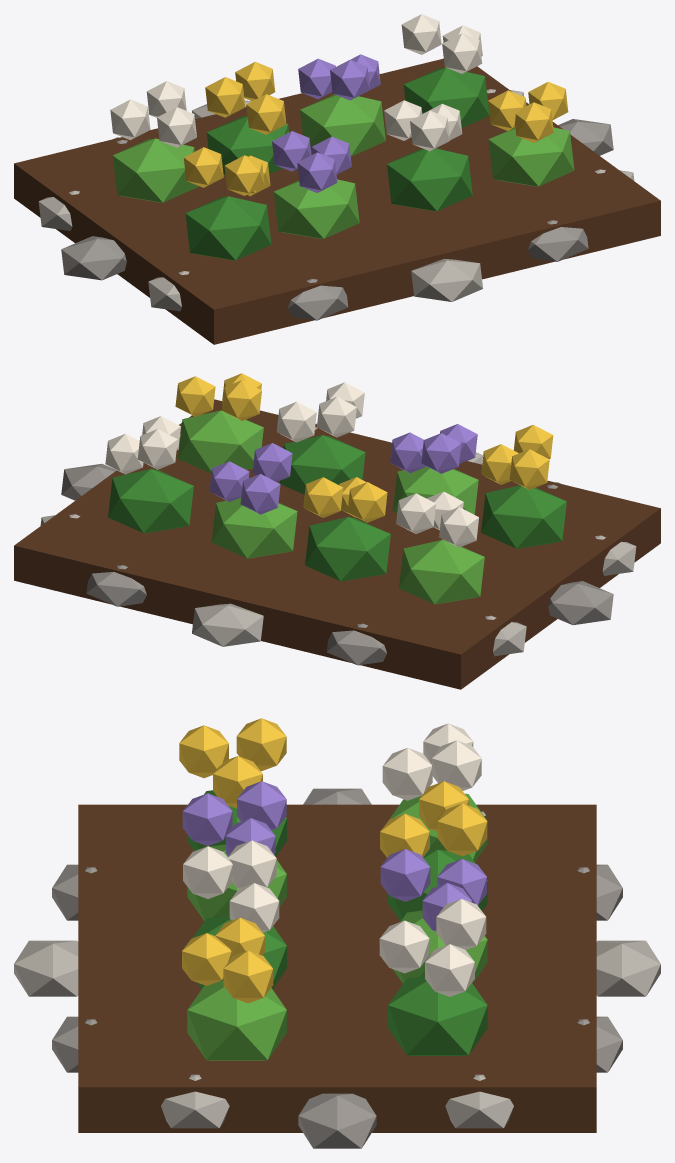
File: flower_bed_2.glb
3 renders of one model, top to bottom at view 1: azimuth 30°, elevation 25°; view 2: azimuth 150°, elevation 25°; view 3: azimuth 270°, elevation 25°, orthographic. The views are drawn at different scales.
Parts seen in each view (by area): view 1: soil, leaf_light, leaf, stone, stone_light, head.005, head.017, head.023, head.022, head.016, head.020, head.001 (+14 smaller); view 2: soil, leaf, leaf_light, stone, stone_light, head.004, head.009, head.001, head.006, head.007, head.016, head.013 (+15 smaller); view 3: soil, stone_light, leaf_light, leaf, stone, head.015, head.020, head.009, head.023, head.005, head.008, head.014 (+17 smaller).
Part boxes in pixels (bbox=[...]): soil: bbox=[14, 58, 660, 344]; leaf_light: bbox=[112, 94, 574, 238]; leaf: bbox=[185, 67, 489, 260]; stone: bbox=[61, 119, 613, 320]; stone_light: bbox=[38, 89, 634, 311]; head.005: bbox=[297, 152, 337, 192]; head.017: bbox=[246, 94, 286, 134]; head.023: bbox=[442, 33, 482, 73]; head.022: bbox=[401, 14, 441, 54]; head.016: bbox=[205, 77, 245, 117]; head.020: bbox=[330, 59, 369, 100]; head.001: bbox=[183, 147, 223, 187]; soil: bbox=[14, 399, 660, 689]; leaf: bbox=[108, 435, 566, 581]; leaf_light: bbox=[178, 410, 484, 604]; stone: bbox=[61, 423, 613, 665]; stone_light: bbox=[40, 434, 636, 656]; head.004: bbox=[421, 433, 461, 473]; head.009: bbox=[175, 376, 215, 416]; head.001: bbox=[509, 449, 549, 489]; head.006: bbox=[276, 401, 316, 442]; head.007: bbox=[317, 397, 356, 437]; head.016: bbox=[347, 482, 387, 522]; head.013: bbox=[439, 507, 478, 547]; soil: bbox=[78, 804, 596, 1132]; stone_light: bbox=[14, 811, 660, 1128]; leaf_light: bbox=[187, 793, 487, 1060]; leaf: bbox=[187, 790, 487, 1055]; stone: bbox=[52, 788, 622, 1148]; head.015: bbox=[437, 803, 487, 856]; head.020: bbox=[380, 849, 430, 901]; head.009: bbox=[223, 950, 273, 1003]; head.023: bbox=[379, 920, 429, 973]; head.005: bbox=[182, 793, 232, 846]; head.008: bbox=[183, 846, 232, 898]; head.014: bbox=[382, 748, 432, 800].
Size of the model in its own units: 0.9781 by 0.2355 by 0.7736.
